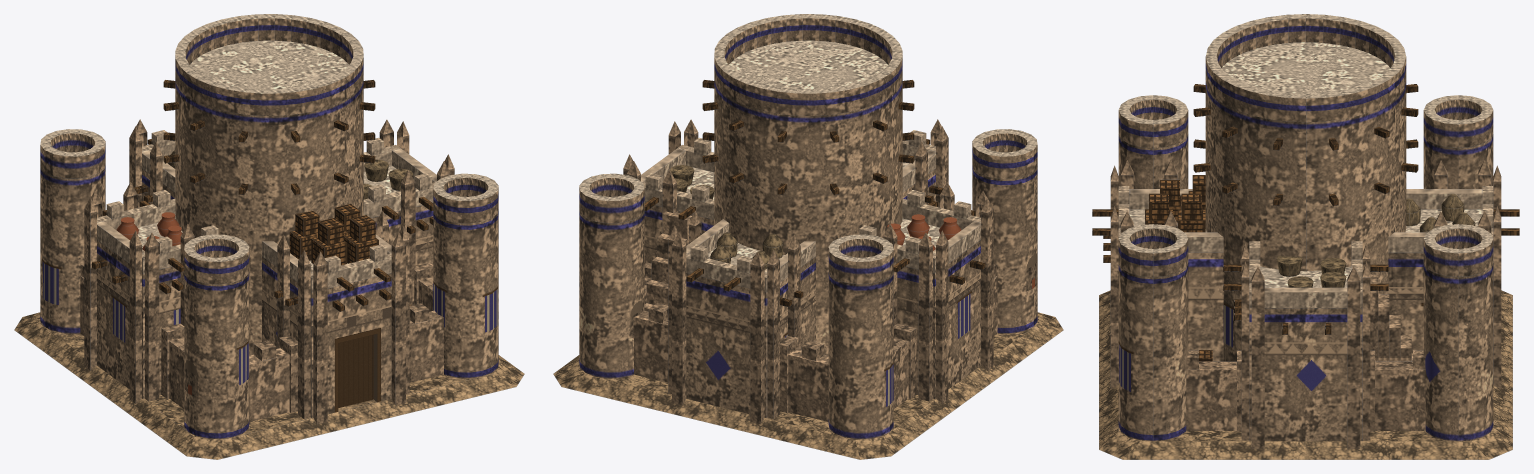
Rendered from africantowncentersahel.glb.
The picture shows the model from 3 angles, left to right: view 1: azimuth 30°, elevation 25°; view 2: azimuth 150°, elevation 25°; view 3: azimuth 270°, elevation 25°; orthographic projection. The views are drawn at different scales.
Visible parts, largest first — view 1: AfricanTownCenterSahel; view 2: AfricanTownCenterSahel; view 3: AfricanTownCenterSahel.
Boxes of the visible parts, <box> form: AfricanTownCenterSahel: <box>14,14,524,459</box>; AfricanTownCenterSahel: <box>553,14,1063,459</box>; AfricanTownCenterSahel: <box>1092,14,1519,459</box>.
Size of the model in its own units: 16.16 by 13.62 by 16.67.
Materials: 1 (1 with a texture image).
